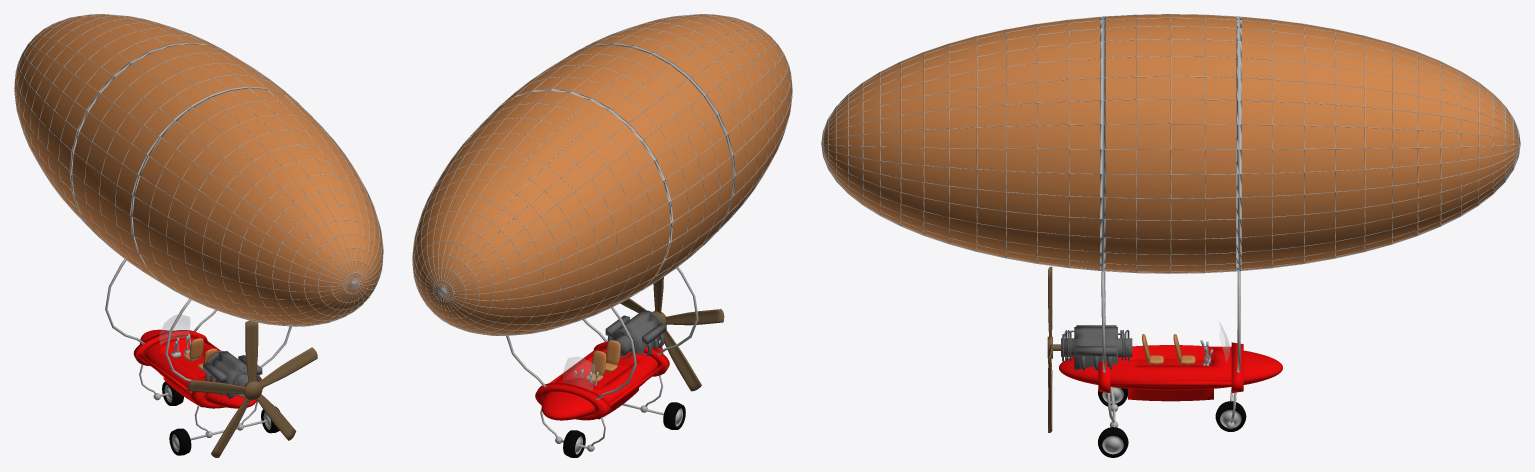
File: smallBlimp.fbx
The picture shows the model from 3 angles, left to right: view 1: azimuth 30°, elevation 25°; view 2: azimuth 150°, elevation 25°; view 3: azimuth 270°, elevation 25°; orthographic projection. The views are drawn at different scales.
Visible parts, largest first — view 1: Hydrogen, Web, Propellor, Body, Engine, Sphere, Supports_for_body, Windshield; view 2: Hydrogen, Web, Body, Propellor, Engine, Sphere, Supports_for_body, Windshield, Side_Ornament, Driver_s_seat, Passenger_s_Seat; view 3: Hydrogen, Web, Body, Engine, Sphere, Propellor, Supports_for_body.
Boxes of the visible parts, bbox=[...] form: Hydrogen: bbox=[15, 14, 382, 325]; Web: bbox=[14, 14, 383, 326]; Propellor: bbox=[187, 320, 317, 457]; Body: bbox=[133, 329, 263, 408]; Engine: bbox=[203, 350, 262, 399]; Sphere: bbox=[162, 381, 279, 455]; Supports_for_body: bbox=[105, 259, 291, 381]; Windshield: bbox=[159, 315, 189, 344]; Hydrogen: bbox=[412, 14, 791, 335]; Web: bbox=[412, 14, 792, 335]; Body: bbox=[535, 341, 669, 420]; Propellor: bbox=[620, 277, 724, 391]; Engine: bbox=[605, 310, 666, 358]; Sphere: bbox=[563, 402, 685, 457]; Supports_for_body: bbox=[506, 267, 698, 399]; Windshield: bbox=[563, 357, 594, 390]; Side_Ornament: bbox=[549, 348, 664, 406]; Driver_s_seat: bbox=[585, 350, 606, 383]; Passenger_s_Seat: bbox=[605, 340, 620, 372]; Hydrogen: bbox=[822, 14, 1519, 272]; Web: bbox=[821, 14, 1520, 273]; Body: bbox=[1059, 342, 1282, 401]; Engine: bbox=[1061, 325, 1132, 370]; Sphere: bbox=[1098, 387, 1246, 457]; Propellor: bbox=[1047, 266, 1060, 432]; Supports_for_body: bbox=[1101, 271, 1240, 372].
Size of the model in its own units: 6.25 by 10.73 by 16.82.
